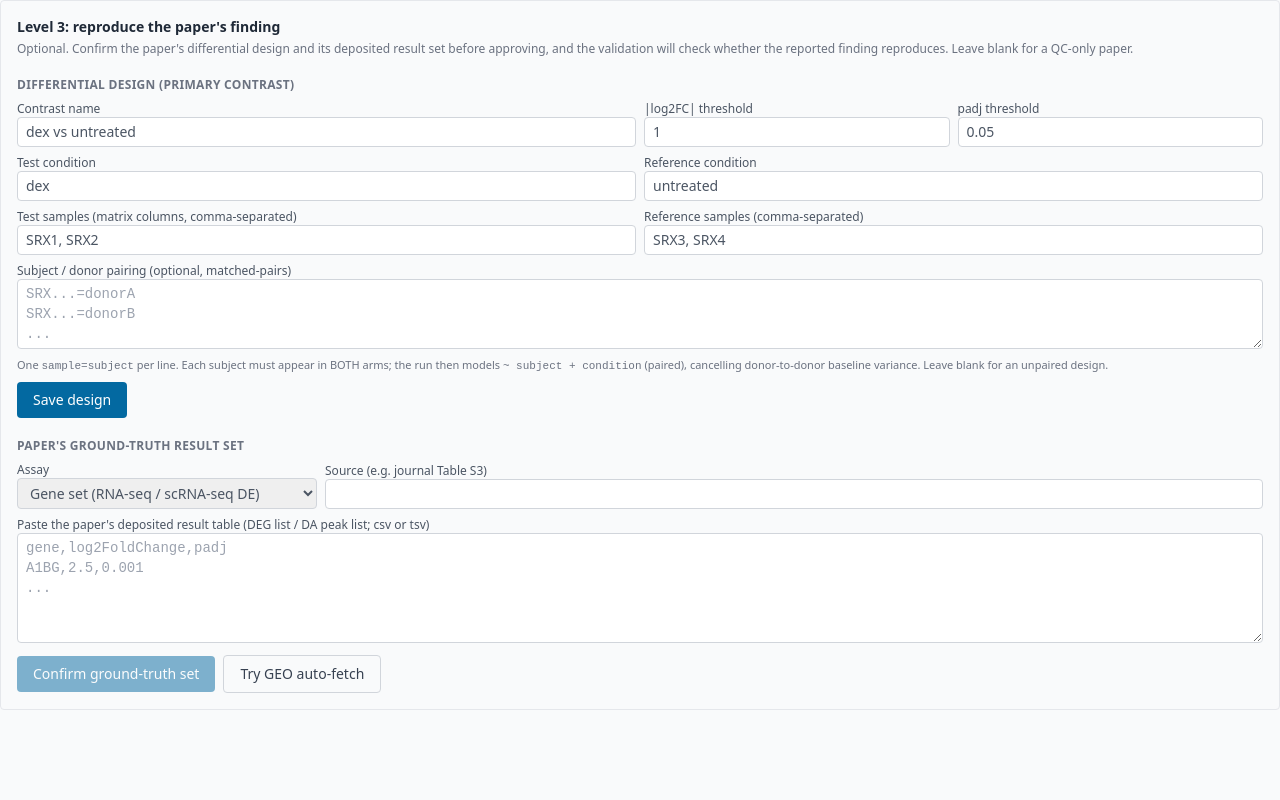
Test: auto-fetch pre-fills the table from a GEO candidate
This screenshot has width=1280, height=800.
Click the button "Try GEO auto-fetch". click: (302,674)
box: [223,655,381,693]
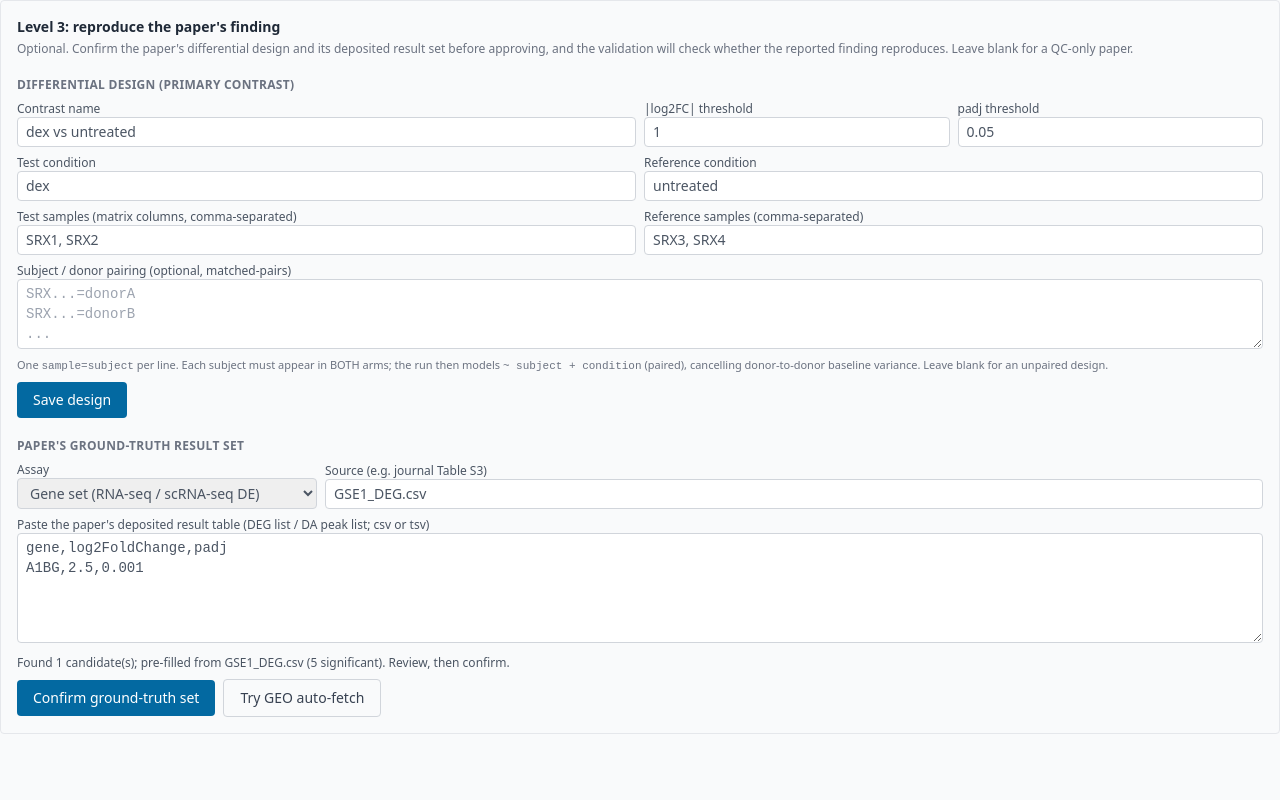
Check: the field labelled "Source (e.g. journal Table S3)" holds "GSE1_DEG.csv", box [325,479,1263,509]
